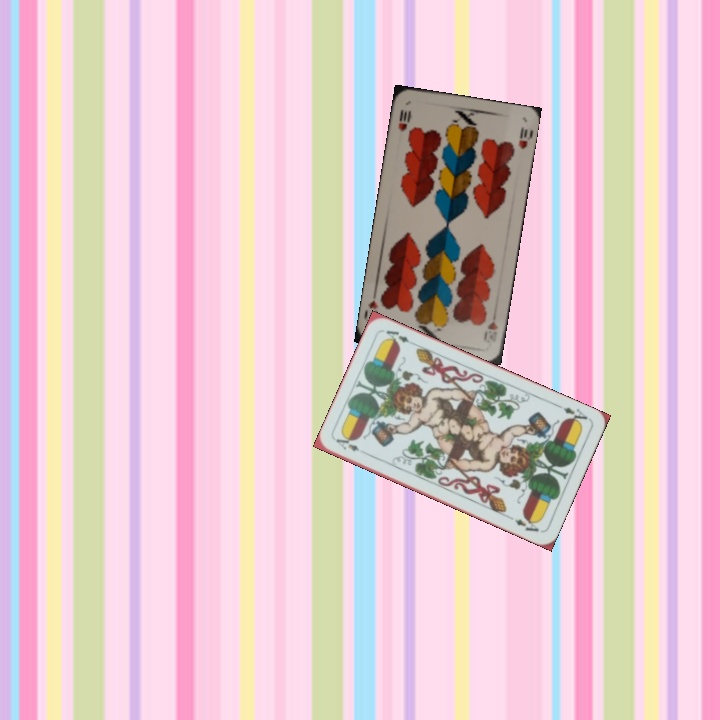EA: (553, 401, 590, 428), (331, 434, 361, 454)
H10: (394, 105, 414, 134), (480, 317, 501, 343)
